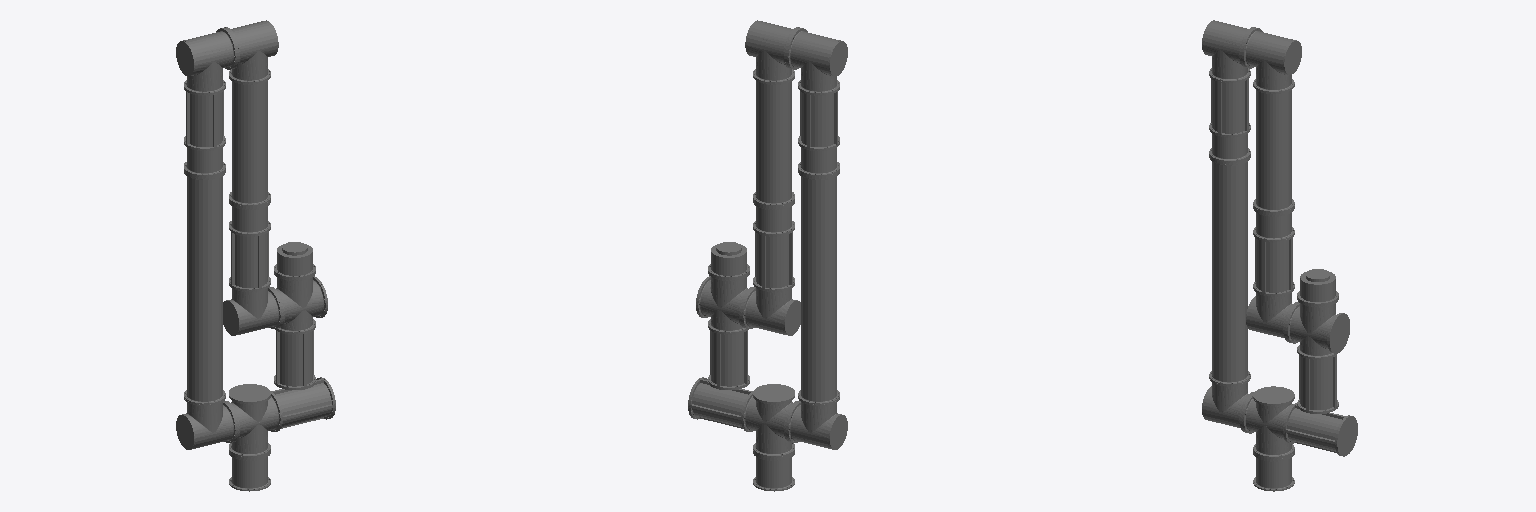
robot.urdf — ASM_CAEASR:
<?xml version="1.0" ?>
<robot name="ASM_CAEASR" xmlns:xacro="http://www.ros.org/wiki/xacro">

  <material name="metal_grey">
    <color rgba="0.501960784313725 0.501960784313725 0.501960784313725 1"/>
  </material>

<!-- world-->
  <link name="world"/>

<!-- base-->
  <link name="base_urdf">
    <inertial>
      <origin xyz="0 0 0" rpy="0 0 0" />
      <mass value="4.48218" />
      <inertia
        ixx=" 0.04755097476"
        ixy=" 0.00000000000"
        ixz=" 0.00000000000"
        iyy=" 0.04755157166"
        iyz="-0.00000000081"
        izz=" 0.00981063776" />
    </inertial>

    <visual>
      <origin xyz="0 0 0" rpy="0 0 0" />
      <geometry>
        <mesh filename="meshes/base.stl" />
      </geometry>
      <material name="metal_grey"/>
    </visual>

    <collision>
      <origin rpy="0 0 0" xyz="0 0 0"/>
      <geometry>
        <mesh filename="meshes/base.stl"/>
      </geometry>
    </collision>
  </link>

<!-- link1-->
  <link name="Link1">
    <inertial>
      <origin xyz="0 0 0" rpy="0 0 0" />
      <mass value="6.68036" />
      <inertia
        ixx=" 0.10111928569"
        ixy=" 0.00000008334"
        ixz=" 0.03015133480"
        iyy=" 0.18848740784"
        iyz="-0.00000017706"
        izz=" 0.10400188938" />
    </inertial>

    <visual>
      <origin xyz="0 0 0" rpy="0 0 0" />
      <geometry>
        <mesh filename="meshes/link1.stl" />
      </geometry>
      <material name="metal_grey"/>
    </visual>

    <collision>
      <origin rpy="0 0 0" xyz="0 0 0"/>
      <geometry>
        <mesh filename="meshes/link1.stl"/>
      </geometry>
    </collision>
  </link>

<!-- link2-->
  <link name="Link2">
    <inertial>
      <origin xyz="0 0 0" rpy="0 0 0" />
      <mass value="11.79632" />
      <inertia
        ixx=" 4.91550234685"
        ixy=" 0.00000014822"
        ixz="-0.50555195363"
        iyy=" 4.98412972242"
        iyz=" 0.00000019211"
        izz=" 0.09931438243" />
    </inertial>

    <visual>
      <origin xyz="0 0 0" rpy="0 0 0" />
      <geometry>
        <mesh filename="meshes/link2.stl" />
      </geometry>
      <material name="metal_grey"/>
    </visual>

    <collision>
      <origin rpy="0 0 0" xyz="0 0 0"/>
      <geometry>
        <mesh filename="meshes/link2.stl"/>
      </geometry>
    </collision>
  </link>

<!-- link3-->
  <link name="Link3">
    <inertial>
      <origin xyz="0 0 0" rpy="0 0 0" />
      <mass value="6.64337" />
      <inertia
        ixx=" 0.63648861546"
        ixy="-0.00000008021"
        ixz=" 0.05018998139"
        iyy=" 0.64404883542"
        iyz=" 0.00000051611"
        izz=" 0.02392204376" />
    </inertial>

    <visual>
      <origin xyz="0 0 0" rpy="0 0 0" />
      <geometry>
        <mesh filename="meshes/link3.stl" />
      </geometry>
      <material name="metal_grey"/>
    </visual>

    <collision>
      <origin rpy="0 0 0" xyz="0 0 0"/>
      <geometry>
        <mesh filename="meshes/link3.stl"/>
      </geometry>
    </collision>
  </link>

<!-- link4-->
  <link name="Link4">
    <inertial>
      <origin xyz="0 0 0" rpy="0 0 0" />
      <mass value="10.52407" />
      <inertia
        ixx=" 1.58306193195"
        ixy="-0.00000015788"
        ixz="-0.26496599873"
        iyy=" 1.64103561723"
        iyz="-0.00000014054"
        izz=" 0.08369098333" />
    </inertial>

    <visual>
      <origin xyz="0 0 0" rpy="0 0 0" />
      <geometry>
        <mesh filename="meshes/link4.stl" />
      </geometry>
      <material name="metal_grey"/>
    </visual>

    <collision>
      <origin rpy="0 0 0" xyz="0 0 0"/>
      <geometry>
        <mesh filename="meshes/link4.stl"/>
      </geometry>
    </collision>
  </link>

<!-- link5-->
  <link name="Link5">
    <inertial>
      <origin xyz="0 0 0" rpy="0 0 0" />
      <mass value="6.64337" />
      <inertia
        ixx=" 0.63648861546"
        ixy=" 0.00000008021"
        ixz="-0.05018998139"
        iyy=" 0.64404883542"
        iyz=" 0.00000051611"
        izz=" 0.02392204376" />
    </inertial>

    <visual>
      <origin xyz="0 0 0" rpy="0 0 0" />
      <geometry>
        <mesh filename="meshes/link5.stl" />
      </geometry>
      <material name="metal_grey"/>
    </visual>

    <collision>
      <origin rpy="0 0 0" xyz="0 0 0"/>
      <geometry>
        <mesh filename="meshes/link5.stl"/>
      </geometry>
    </collision>
  </link>

<!-- link6-->
  <link name="Link6">
    <inertial>
      <origin xyz="0 0 0" rpy="0 0 0" />
      <mass value="8.75036" />
      <inertia
        ixx=" 0.30380671545"
        ixy="-0.00000008334"
        ixz=" 0.02875889215"
        iyy=" 0.31843566669"
        iyz="-0.00000017706"
        izz=" 0.03617183352" />
    </inertial>

    <visual>
      <origin xyz="0 0 0" rpy="0 0 0" />
      <geometry>
        <mesh filename="meshes/link6.stl" />
      </geometry>
      <material name="metal_grey"/>
    </visual>

    <collision>
      <origin rpy="0 0 0" xyz="0 0 0"/>
      <geometry>
        <mesh filename="meshes/link6.stl"/>
      </geometry>
    </collision>
  </link>

<!-- link7-->
  <link name="Link7">
    <inertial>
      <origin xyz="0 0 0" rpy="0 0 0" />
      <mass value="4.49347" />
      <inertia
        ixx="0.00157801213"
        ixy="0.00000000000"
        ixz="0.00000000000"
        iyy="0.01157801213"
        iyz="0.00000000000"
        izz="0.00894926406" />
    </inertial>

    <visual>
      <origin xyz="0 0 0" rpy="0 0 0" />
      <geometry>
        <mesh filename="meshes/link7.stl" />
      </geometry>
      <material name="metal_grey"/>

    </visual>
    <collision>
      <origin rpy="0 0 0" xyz="0 0 0"/>
      <geometry>
        <mesh filename="meshes/link7.stl"/>
      </geometry>
    </collision>
  </link>

<!-- tcp-->
  <link name="tcp">
    <inertial>
      <mass value="1000.0"/>
      <origin rpy="0 0 0" xyz="0.0 0.0 0.0"/>
      <inertia ixx="200.0" ixy="0.0" ixz="0.0" iyy="200.0" iyz="0.0" izz="200.0"/>
    </inertial>

    <collision>
      <geometry>
        <box size="0.00 0.00 0.00"/>
      </geometry>
      <origin rpy="0 0 0" xyz="0.00 0 0"/>
    </collision>
  </link>

<!-- world fixed joint-->
  <joint name="world_fixed" type="fixed">
    <origin xyz="0 0 0" rpy="0 0 0" />
    <parent link="world" />
    <child link="base_urdf" />
  </joint>

<!-- joint1-->
  <joint name="Joint1" type="revolute">
    <origin xyz="0 0 0.128" rpy="0 0 0" />
    <parent link="base_urdf" />
    <child link="Link1" />
    <axis xyz="0 0 1" />
    <limit
      lower="-6.28"
      upper="6.28"
      effort="100"
      velocity="20" />
  </joint>

<!-- joint2-->
  <joint name="Joint2" type="revolute">
    <origin xyz="-0.0915 0 0.128" rpy="0 0 0" />
    <parent link="Link1" />
    <child link="Link2" />
    <axis xyz="-1 0 0" />
    <limit
      lower="-6.28"
      upper="6.28"
      effort="100"
      velocity="20" />
  </joint>

<!-- joint3-->
  <joint name="Joint3" type="revolute">
    <origin xyz="-0.0915 0 1.0045" rpy="0 0 0" />
    <parent link="Link2" />
    <child link="Link3" />
    <axis xyz="0 0 1" />
    <limit
      lower="-6.28"
      upper="6.28"
      effort="100"
      velocity="20" />
  </joint>

<!-- joint4-->
  <joint name="Joint4" type="revolute">
    <origin xyz="0.0915 0 0.4455" rpy="0 0 0" />
    <parent link="Link3" />
    <child link="Link4" />
    <axis xyz="1 0 0" />
    <limit
      lower="-6.28"
      upper="6.28"
      effort="100"
      velocity="20" />
  </joint>

<!-- joint5-->
  <joint name="Joint5" type="revolute">
    <origin xyz="0.0915 0 -0.6045" rpy="0 0 0" />
    <parent link="Link4" />
    <child link="Link5" />
    <axis xyz="0 0 -1" />
    <limit
      lower="-6.28"
      upper="6.28"
      effort="100"
      velocity="20" />
  </joint>

<!-- joint6-->
  <joint name="Joint6" type="revolute">
    <origin xyz="0.0915 0 -0.4455" rpy="0 0 0" />
    <parent link="Link5" />
    <child link="Link6" />
    <axis xyz="1 0 0" />
    <limit
      lower="-6.28"
      upper="6.28"
      effort="100"
      velocity="20" />
  </joint>

<!-- joint7-->
  <joint name="Joint7" type="revolute">
    <origin xyz="0.0915 0 0.128" rpy="0 0 0" />
    <parent link="Link6" />
    <child link="Link7" />
    <axis xyz="0 0 1" />
    <limit
      lower="-6.28"
      upper="6.28"
      effort="100"
      velocity="20" />
  </joint>

  <joint name="tcp" type="fixed">
    <origin xyz="0 0 0.087" rpy="0 0 0"/>
    <parent link="Link7"/>
    <child link="tcp"/>
  </joint>

</robot>

--- Facts derived from the render (not from the file) ---
The picture shows the robot from 3 angles, left to right: view 1: azimuth 30°, elevation 25°; view 2: azimuth 150°, elevation 25°; view 3: azimuth 330°, elevation 25°; orthographic projection.
Robot: ASM_CAEASR — 10 links, 9 joints (7 revolute, 2 fixed); root link world; default pose: all joints at 0.
Links seen in each view (by area): view 1: Link2, Link4, Link3, Link5, Link1, Link6, Link7, base_urdf; view 2: Link2, Link4, Link3, Link5, Link1, Link6, Link7, base_urdf; view 3: Link2, Link4, Link1, Link3, Link6, Link5, base_urdf, Link7.
Boxes of the visible links, <box> form: Link2: <box>176,171,237,449</box>; Link4: <box>224,20,278,207</box>; Link3: <box>176,28,237,177</box>; Link5: <box>223,201,282,335</box>; Link1: <box>225,377,335,458</box>; Link6: <box>270,272,327,389</box>; Link7: <box>274,242,315,278</box>; base_urdf: <box>229,452,270,491</box>; Link2: <box>786,171,847,449</box>; Link4: <box>745,20,799,207</box>; Link3: <box>786,28,847,177</box>; Link5: <box>741,201,800,335</box>; Link1: <box>688,377,798,458</box>; Link6: <box>696,272,753,389</box>; Link7: <box>708,242,749,278</box>; base_urdf: <box>753,452,794,491</box>; Link2: <box>1202,156,1253,432</box>; Link4: <box>1242,28,1301,213</box>; Link1: <box>1242,386,1357,458</box>; Link3: <box>1202,20,1255,162</box>; Link6: <box>1286,297,1349,413</box>; Link5: <box>1246,207,1298,342</box>; base_urdf: <box>1253,452,1294,491</box>; Link7: <box>1297,269,1338,304</box>.
Bounding box of the posed robot: 0.5695 × 0.15 × 1.78 m (x, y, z).
Meshes: 8 distinct files referenced, 8 mesh visuals loaded (8 binary STL).